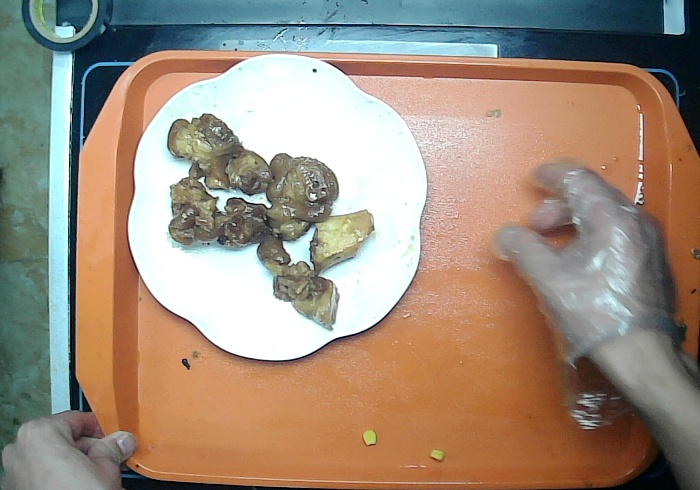HZYJPL-Bai_Se_Hua_Duo_Wan: (125, 51, 429, 362)
